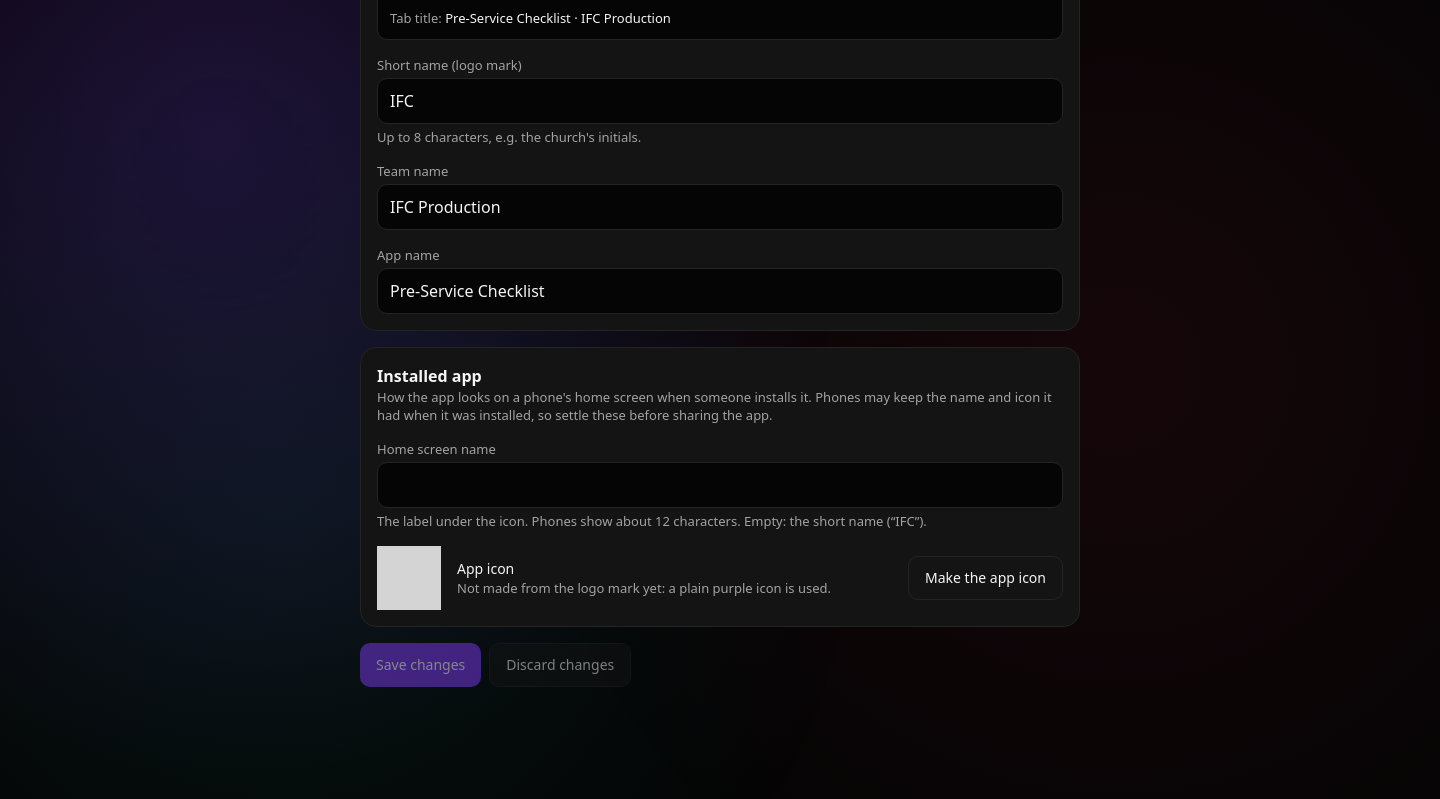
Test: Settings page › saves the home screen name, and makes the app icon from the logo mark on request
(page scrolled)
Expected: the element "Installed app" shows "Not made from the logo mark yet", top-left (457, 579), bottom-right (831, 597)
Type "IFC Checklist" into the field labelled "Home screen name" at (720, 485), box top-left (377, 462), bottom-right (1063, 508)
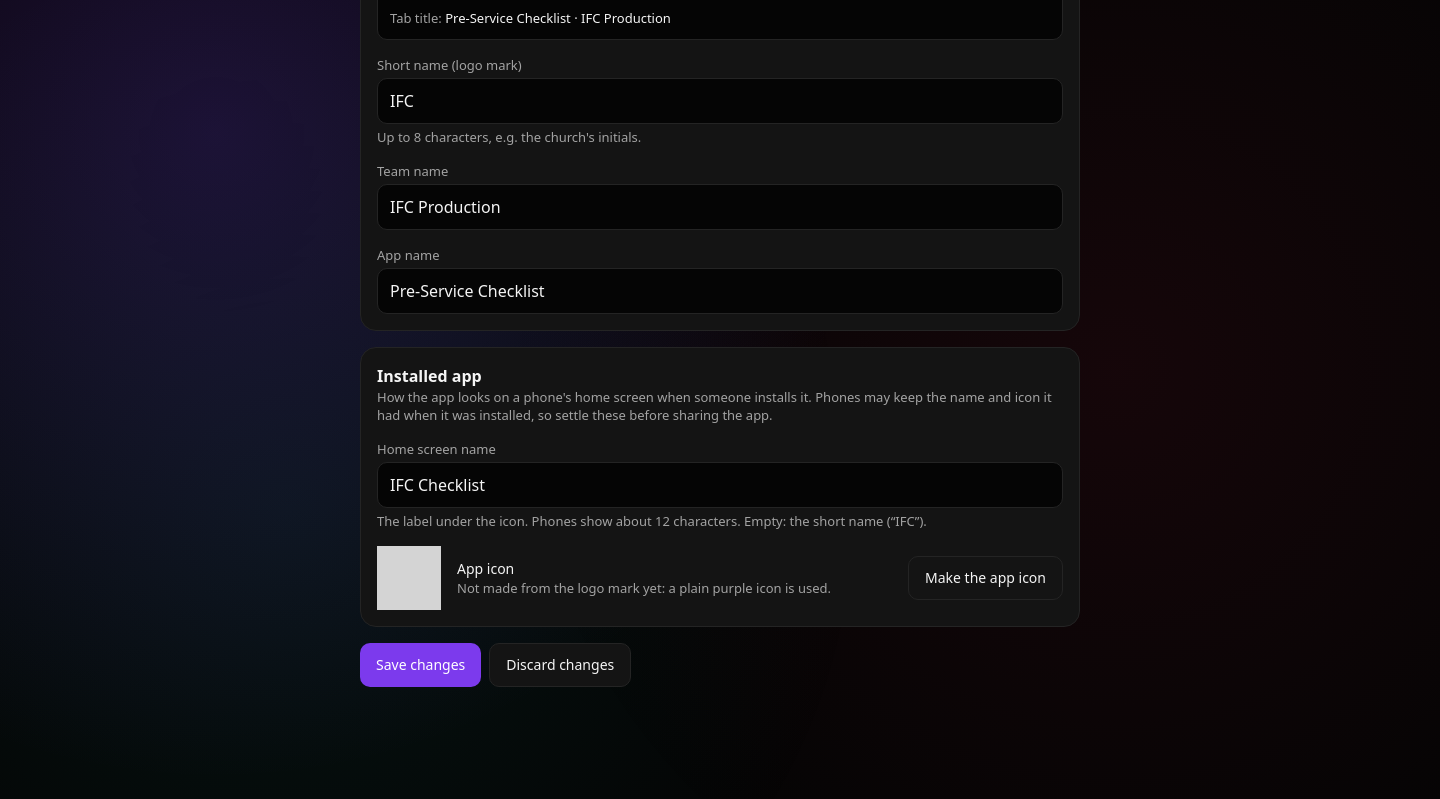
Click the button "Save changes" at (421, 665), box top-left (360, 643), bottom-right (481, 687)
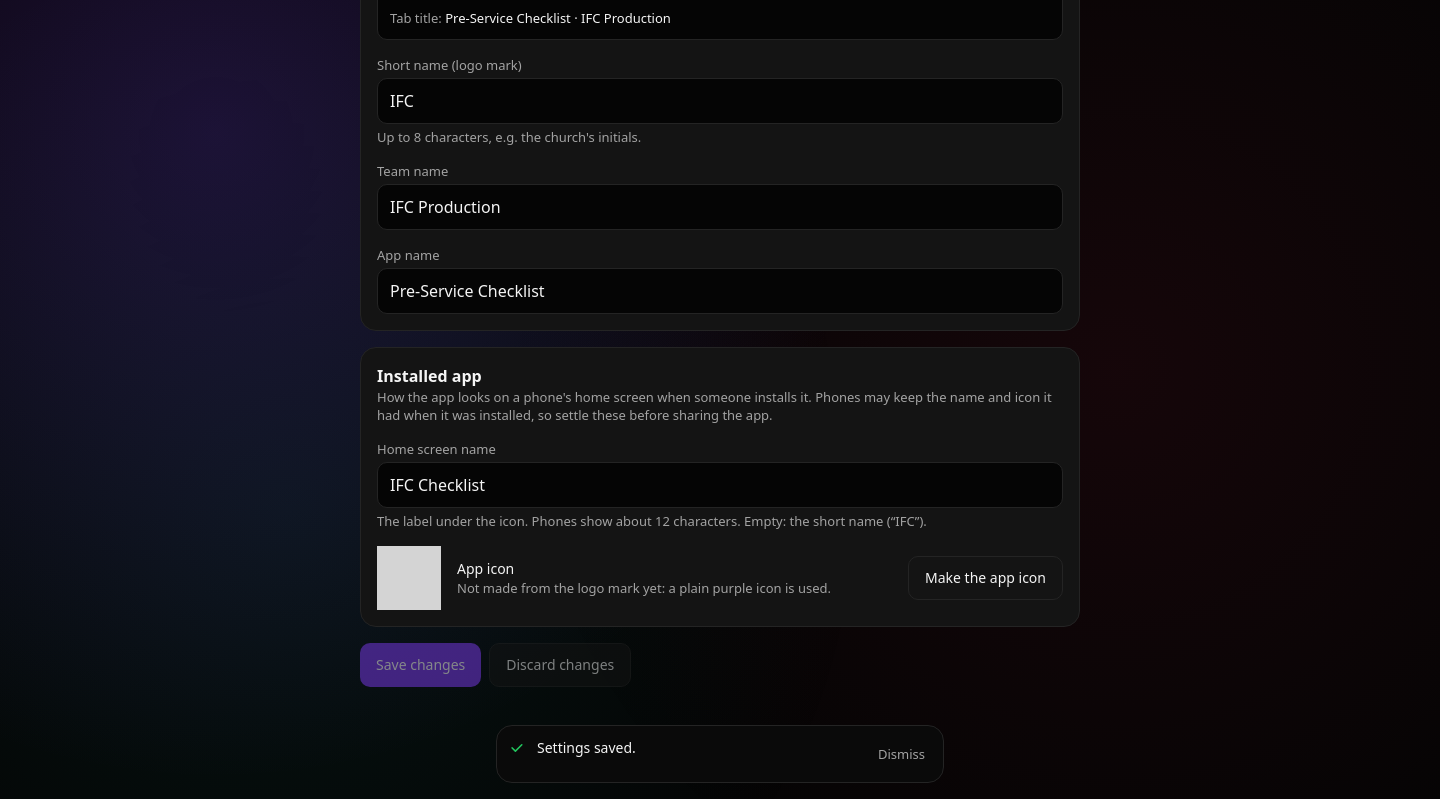
Click the button "Make the app icon" at (986, 578), box top-left (908, 556), bottom-right (1063, 600)
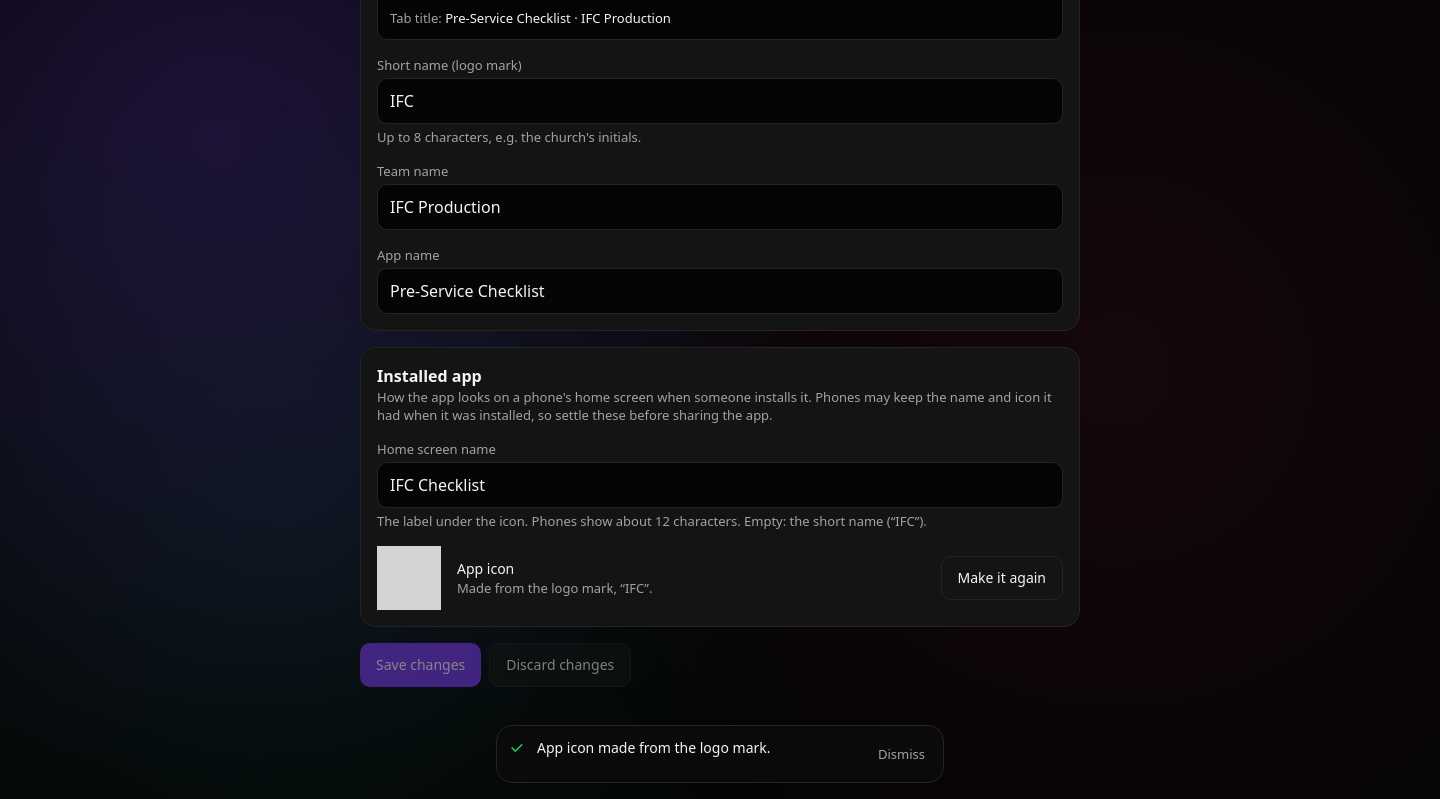
Now the text "App icon made from the logo mark." is shown, box top-left (537, 738), bottom-right (770, 757)
Now the text "Made from the logo mark, “IFC”." is shown, box top-left (457, 579), bottom-right (652, 597)
